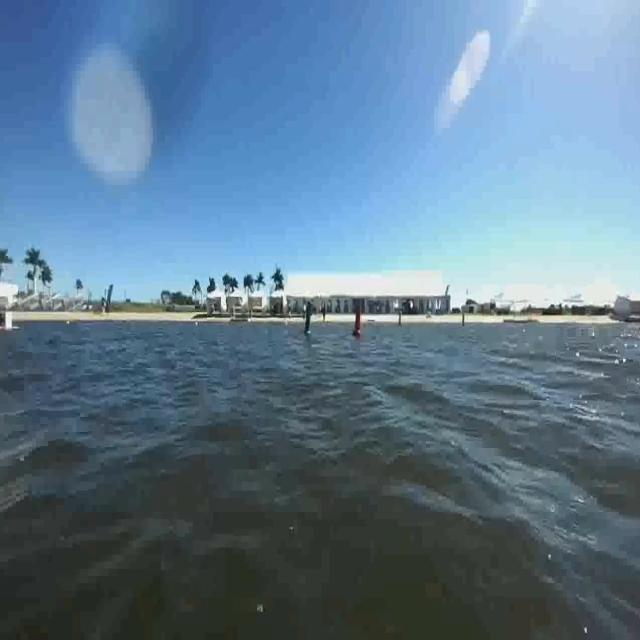green-column-buoy: (304, 304, 315, 336)
red-column-buoy: (352, 306, 365, 341)
